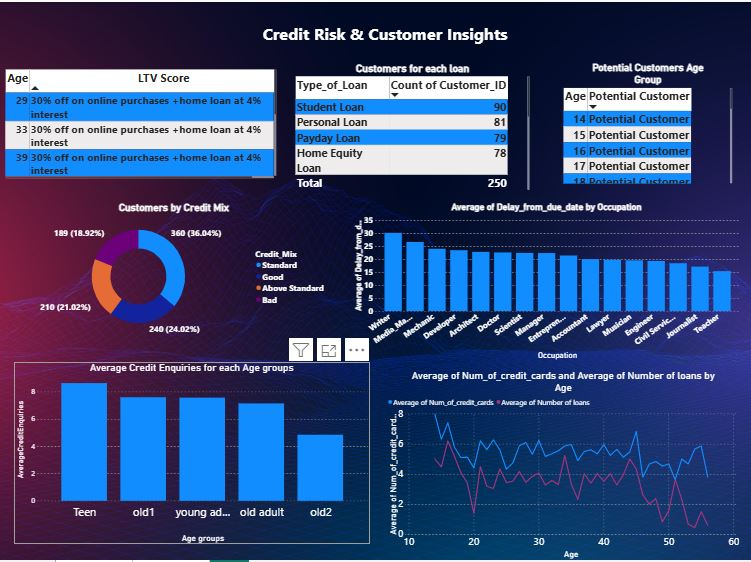

What the dashboard file says about the page in this screenshot:
{"tool":"powerbi","page":{"name":"Page 2","canvas":[2700,2000],"ordinal":1},"visuals":[{"type":"clusteredColumnChart","title":"Average Credit Enquiries for each Age groups","fields":{"Category":["Sheet1.Age groups"],"Y":["Sheet1.AverageCreditEnquiries"]},"box":[50,1289.3,1275,653.6],"z":0},{"type":"tableEx","title":"Potential Customers Age Group","fields":{"Values":["Sheet1.Age","Sheet1.Potential Customer"]},"box":[2014.3,215.1,616.5,440.9],"z":1000},{"type":"lineChart","fields":{"Category":["Sheet1.Age"],"Y":["Avg(Sheet1.Num_of_credit_cards)","Avg(Sheet1.Number of loans)"]},"box":[1382.1,1317.9,1271.4,682.1],"z":2000},{"type":"tableEx","title":"LTV Score based Promotions","fields":{"Values":["Sheet1.Age","Sheet1.LTV Score"]},"box":[14.3,236.6,982.1,401.4],"z":3000},{"type":"tableEx","title":"Customers for each loan","fields":{"Values":["Sheet1 (2).Type_of_Loan","Sheet1 (2).Customer_ID"]},"box":[1053.6,214.3,850,464.3],"z":4000},{"type":"donutChart","title":"Customers by Credit Mix","fields":{"Category":["Sheet1.Credit_Mix"],"Y":["CountNonNull(Sheet1.Customer_ID)"]},"box":[72.4,717.2,1103.4,489.7],"z":5000},{"type":"clusteredColumnChart","fields":{"Category":["Sheet1.Occupation"],"Y":["Avg(Sheet1.Delay_from_due_date)"]},"box":[1261.6,716.8,1394.3,569.9],"z":6000},{"type":"textbox","box":[889.7,51.7,982.8,137.9],"z":7000}]}

Visuals, with their boxes in screenshot pixels (x1, y1, x2, y2), scaled from the page's 2700x2000 canvas onto the 751x562 screenshot:
"Average Credit Enquiries for each Age groups" clusteredColumnChart: [14,362,369,546]
"Potential Customers Age Group" tableEx: [560,60,732,184]
lineChart - Sheet1.Age x Avg(Sheet1.Num_of_credit_cards): [384,370,738,561]
"LTV Score based Promotions" tableEx: [4,66,277,179]
"Customers for each loan" tableEx: [293,60,529,191]
"Customers by Credit Mix" donutChart: [20,202,327,339]
clusteredColumnChart - Sheet1.Occupation x Avg(Sheet1.Delay_from_due_date): [351,201,739,362]
textbox: [247,15,521,53]
